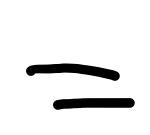eqv: (26, 64, 134, 110)
